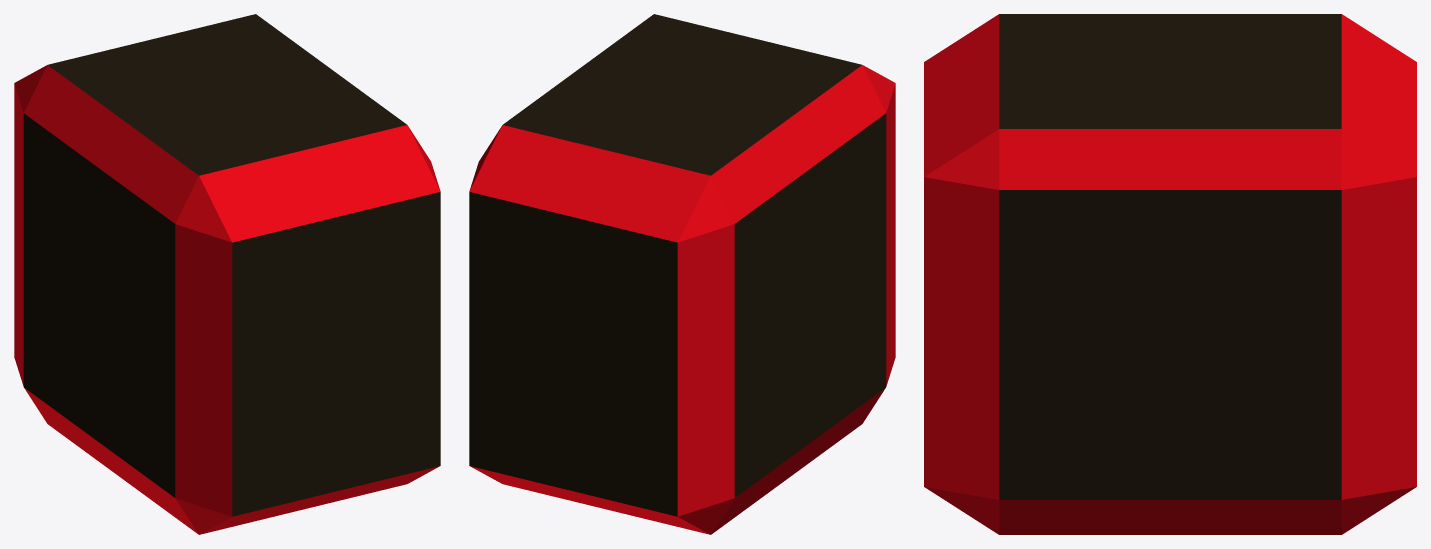
The picture shows the model from 3 angles, left to right: view 1: azimuth 30°, elevation 25°; view 2: azimuth 150°, elevation 25°; view 3: azimuth 270°, elevation 25°; orthographic projection. The views are drawn at different scales.
Visible parts, largest first — view 1: 立方体.018; view 2: 立方体.018; view 3: 立方体.018.
Boxes of the visible parts, x1,y1,x2,y2 form: 立方体.018: (14,14,440,534); 立方体.018: (469,14,895,534); 立方体.018: (924,14,1416,534).
Bounding box in the file's own units: 82.42 × 111 × 122.
